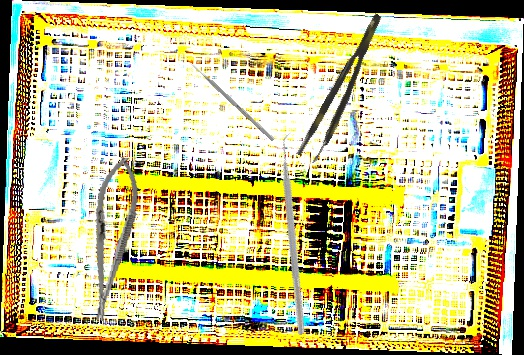Chopper: (198, 128, 398, 336)
Needle Holder: (77, 154, 146, 324)
Pusher: (186, 58, 275, 142)
Tissue Forceps: (295, 12, 395, 165)
